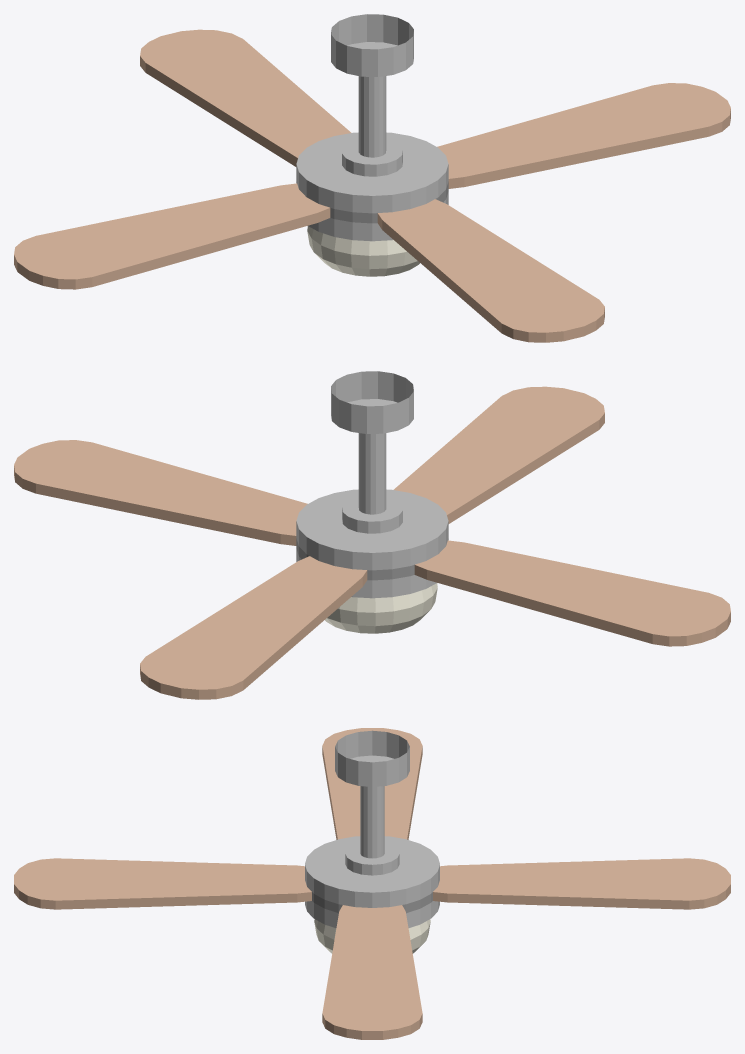
File: Ceiling Fan.fbx
3 views of the same model, one above another, from view 1: azimuth 30°, elevation 25°; view 2: azimuth 150°, elevation 25°; view 3: azimuth 270°, elevation 25° (orthographic). The views are drawn at different scales.
Visible parts, largest first — view 1: Ceiling Fan Blades, Ceiling Fan Mount, Ceiling Fan Light; view 2: Ceiling Fan Blades, Ceiling Fan Mount, Ceiling Fan Light; view 3: Ceiling Fan Blades, Ceiling Fan Mount, Ceiling Fan Light.
Boxes of the visible parts, <box> form: Ceiling Fan Blades: <box>14,29,730,342</box>; Ceiling Fan Mount: <box>331,14,413,176</box>; Ceiling Fan Light: <box>307,226,419,276</box>; Ceiling Fan Blades: <box>14,386,730,699</box>; Ceiling Fan Mount: <box>331,371,413,533</box>; Ceiling Fan Light: <box>325,583,437,633</box>; Ceiling Fan Blades: <box>14,728,730,1039</box>; Ceiling Fan Mount: <box>335,730,409,875</box>; Ceiling Fan Light: <box>314,919,430,953</box>.
Bounding box in the file's own units: 1.09 × 0.3421 × 1.09.
